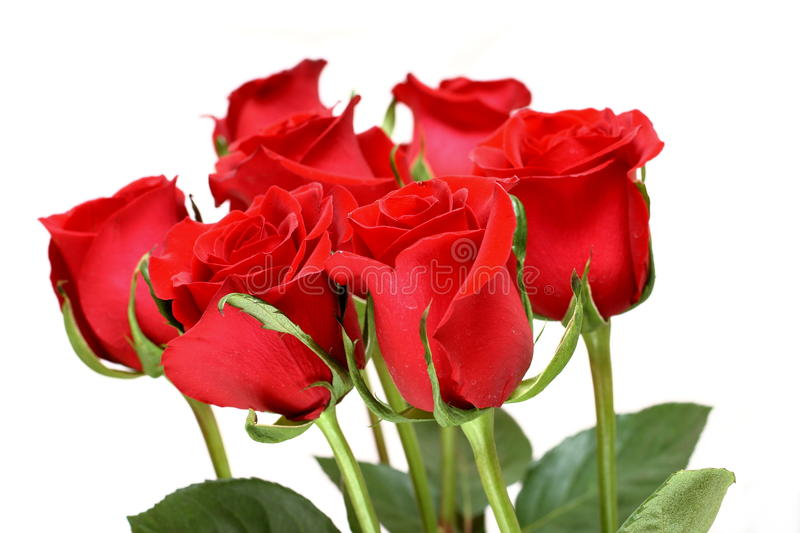RedRose: (161, 190, 337, 427), (362, 197, 524, 395), (196, 80, 406, 211), (503, 114, 642, 307), (52, 197, 190, 361), (410, 57, 529, 175)
